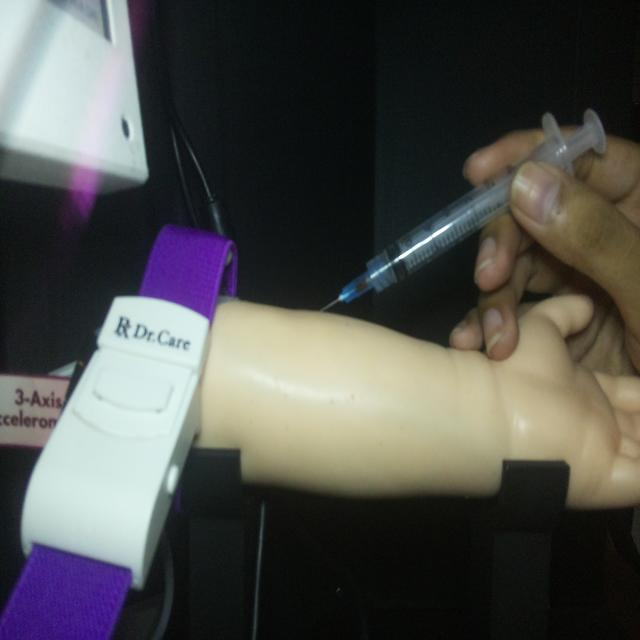24 degrees: (318, 105, 608, 314)
